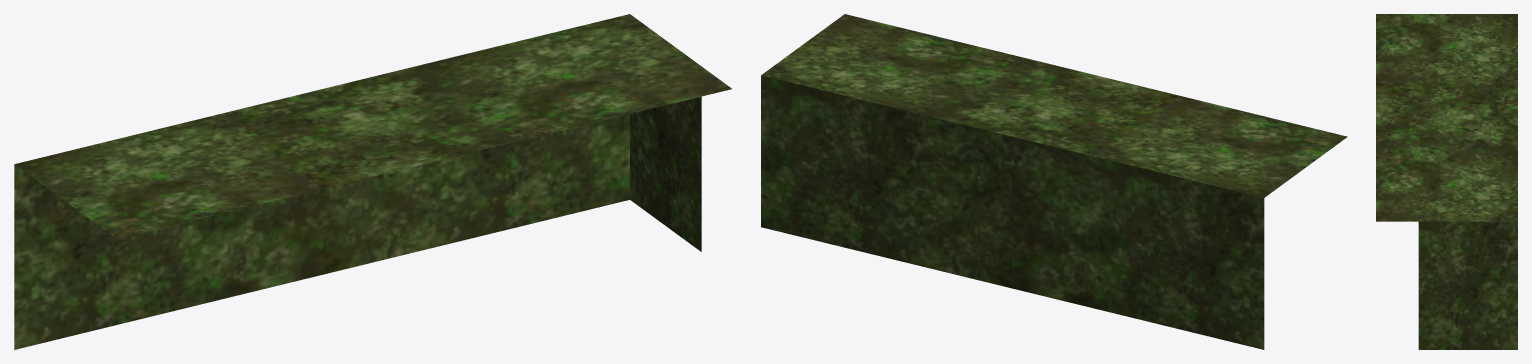
File: OVERHILL_A_01_PLANE129.fbx
The picture shows the model from 3 angles, left to right: view 1: azimuth 30°, elevation 25°; view 2: azimuth 150°, elevation 25°; view 3: azimuth 270°, elevation 25°; orthographic projection. The views are drawn at different scales.
Parts seen in each view (by area): view 1: OVERHILL_A_01_PLANE129; view 2: OVERHILL_A_01_PLANE129; view 3: OVERHILL_A_01_PLANE129.
Boxes of the visible parts, bbox=[...] form: OVERHILL_A_01_PLANE129: bbox=[14, 14, 731, 349]; OVERHILL_A_01_PLANE129: bbox=[761, 14, 1347, 349]; OVERHILL_A_01_PLANE129: bbox=[1376, 14, 1517, 349].
Size of the model in its own units: 48951 by 14121 by 14121.
Materials: 1 (1 with a texture image).
